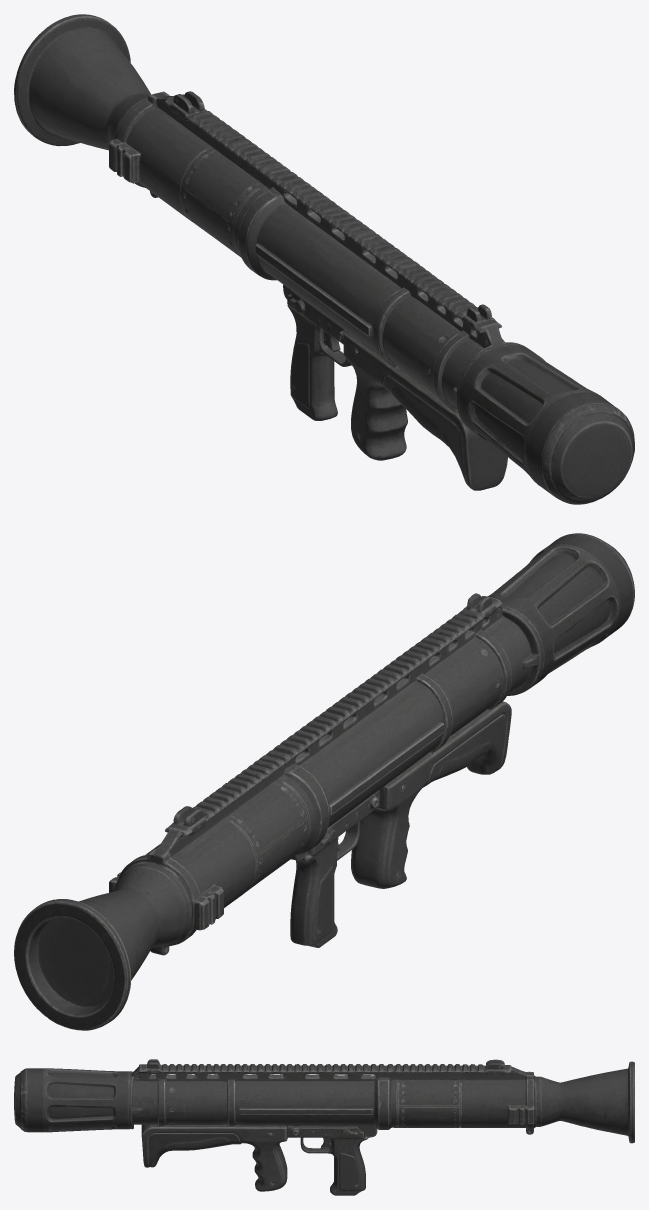
File: heavy_rocket_launcher.medium.glb
The picture shows the model from 3 angles, top to bottom: view 1: azimuth 30°, elevation 25°; view 2: azimuth 150°, elevation 25°; view 3: azimuth 270°, elevation 25°; orthographic projection. The views are drawn at different scales.
Parts seen in each view (by area): view 1: model; view 2: model; view 3: model.
Boxes of the visible parts, box(x1,y1,x2,y2) form: model: box(14, 14, 634, 504); model: box(14, 533, 634, 1030); model: box(14, 1059, 634, 1195).
Bounding box in the file's own units: 0.1377 × 0.2578 × 1.1.
1 material, 1 textured.
